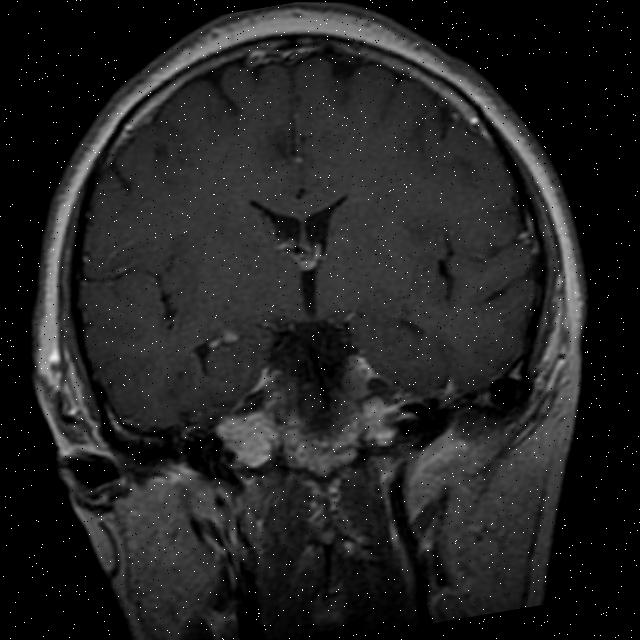Pituitary: (275, 403, 369, 482)
